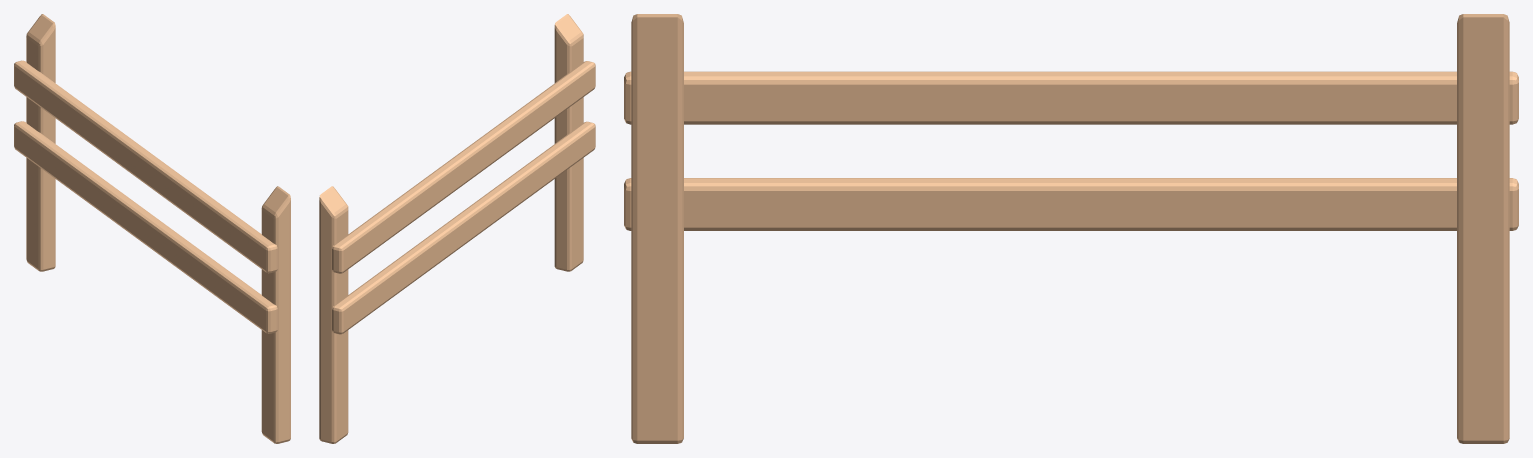
The model's file is fence.fbx.
3 views of the same model, side by side, from view 1: azimuth 30°, elevation 25°; view 2: azimuth 150°, elevation 25°; view 3: azimuth 270°, elevation 25° (orthographic). The views are drawn at different scales.
Parts seen in each view (by area): view 1: Cube.006; view 2: Cube.006; view 3: Cube.006.
Boxes of the visible parts, box(x1,y1,x2,y2) form: Cube.006: box(14, 14, 290, 443); Cube.006: box(319, 14, 595, 443); Cube.006: box(624, 14, 1518, 443).
Bounding box in the file's own units: 28.83 × 253 × 476.
